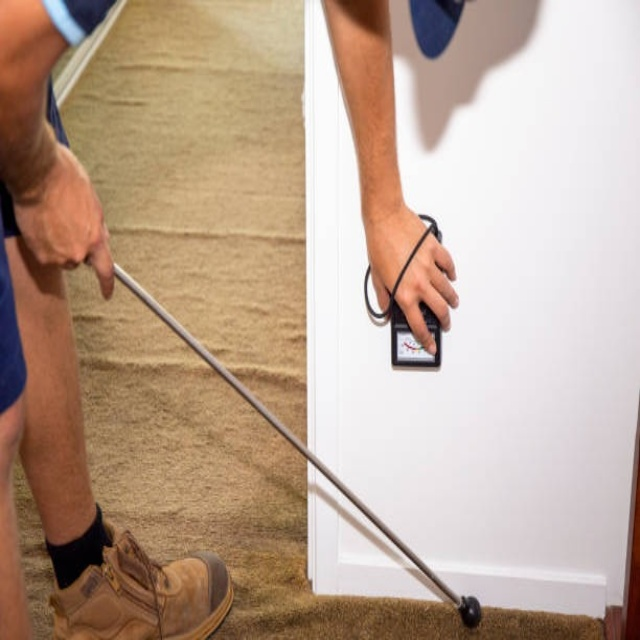Sin_guantes: (15, 134, 116, 298), (365, 207, 461, 352)
